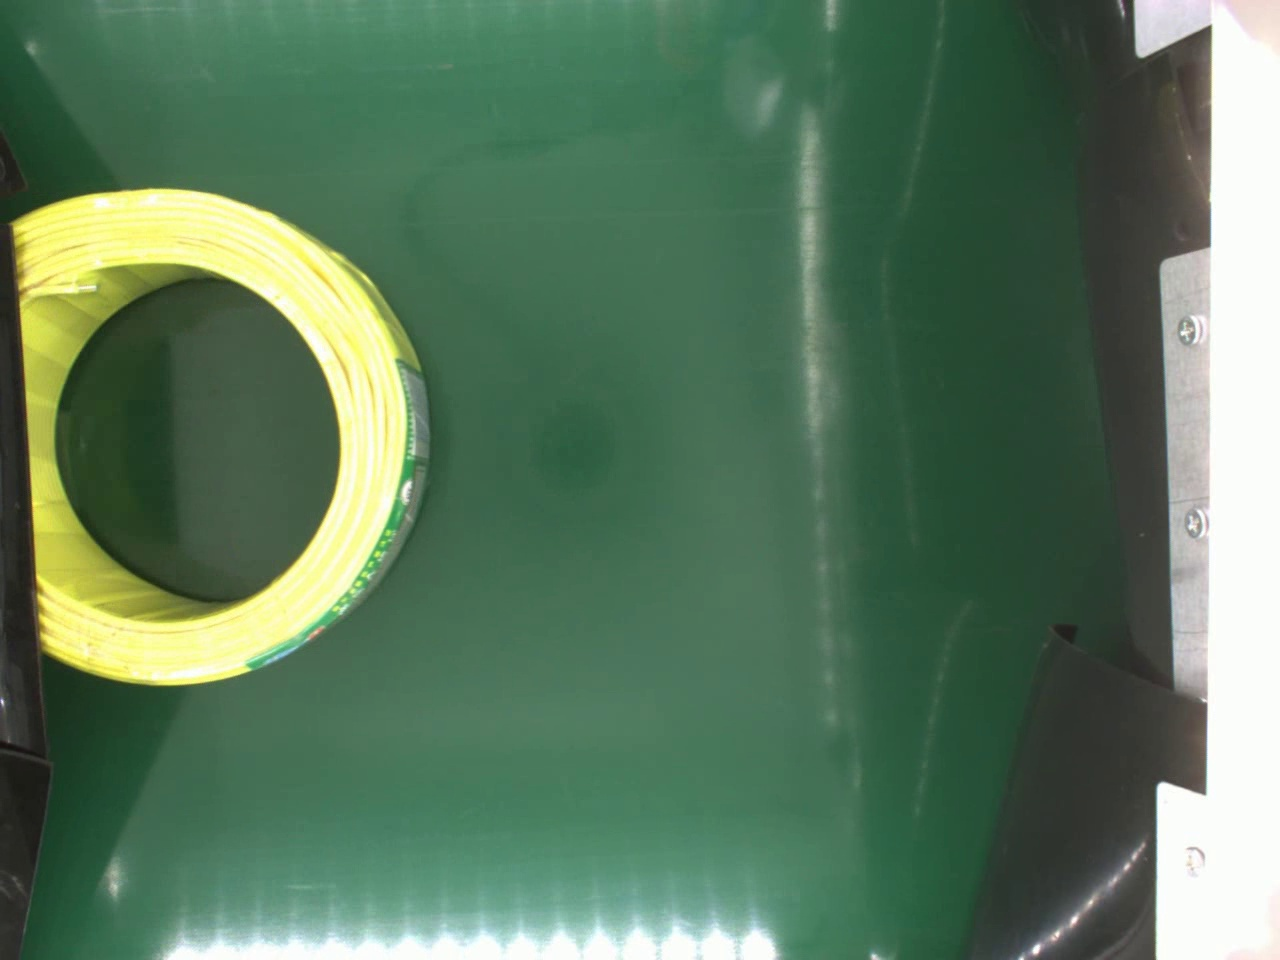yellow: (12, 187, 437, 695)
